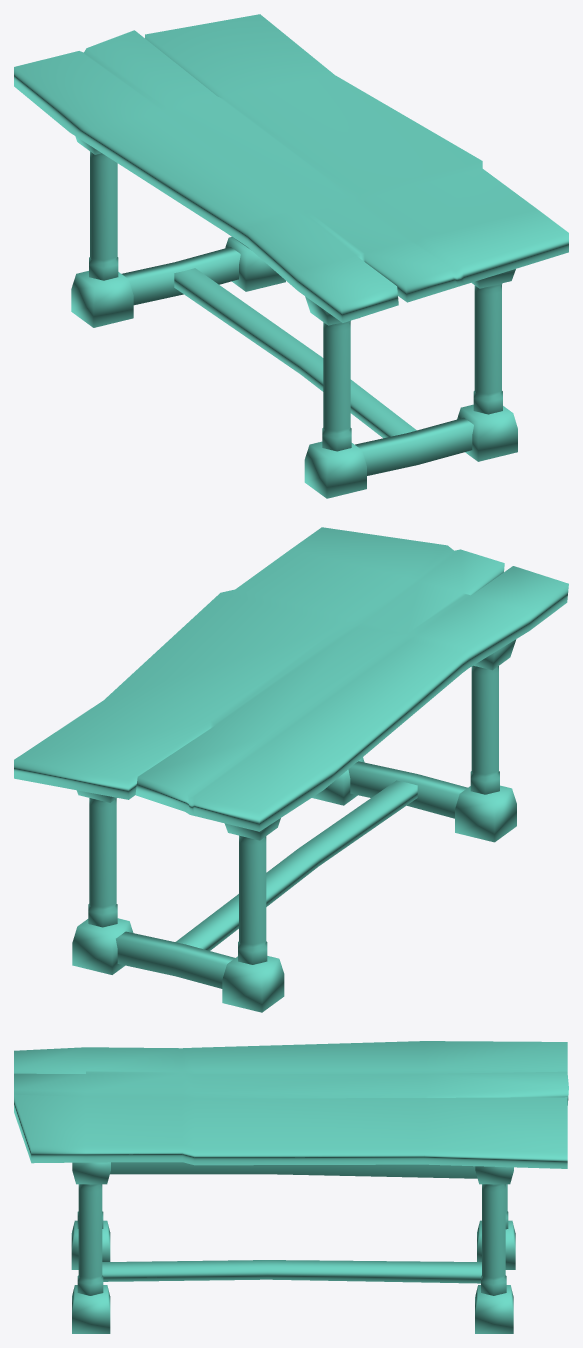
Rendered from Table_01_Lod0.fbx.
3 views of the same model, one above another, from view 1: azimuth 30°, elevation 25°; view 2: azimuth 150°, elevation 25°; view 3: azimuth 270°, elevation 25° (orthographic). The views are drawn at different scales.
Parts seen in each view (by area): view 1: Table_01_Lod0; view 2: Table_01_Lod0; view 3: Table_01_Lod0.
Part boxes in pixels (left/top/right/bottom): Table_01_Lod0: left=14, top=14, right=568, bottom=498; Table_01_Lod0: left=14, top=527, right=568, bottom=1012; Table_01_Lod0: left=14, top=1041, right=568, bottom=1333.
Bounding box in the file's own units: 85.69 × 74.9 × 184.
